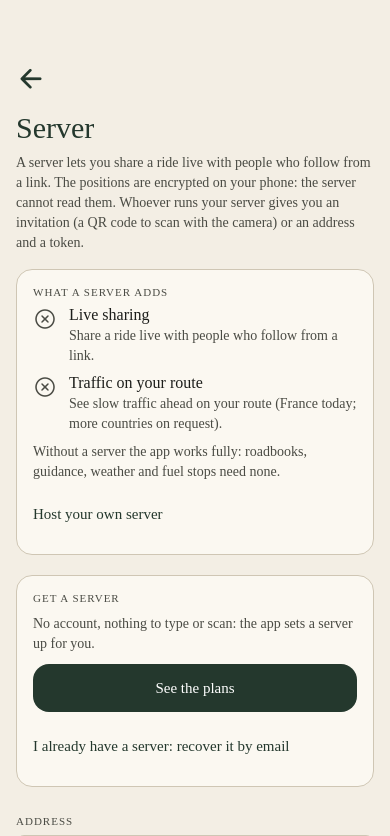
Test case: the plans: one card, free during launch, the regular price struck through, no purchase
This screenshot has width=390, height=836.
Click the button with aria-label "See the plans for a server". click: (195, 688)
box: [33,664,357,712]
(page scrolled)
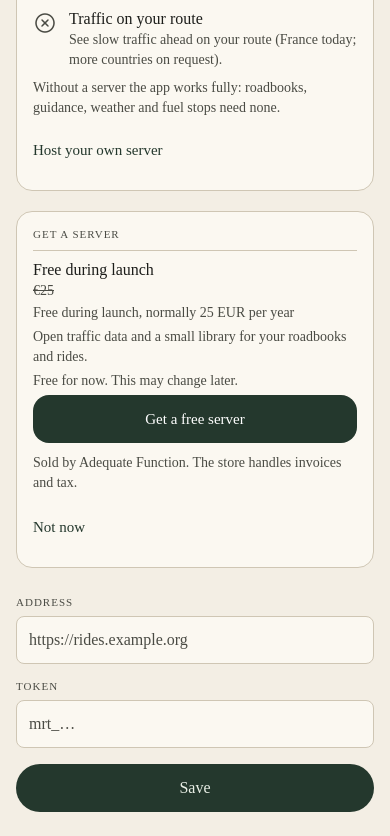
Result: the text "Free during launch" is shown at [33,261,154,278]
Result: the text "€25" is shown at [33,283,54,298]
Result: the text "Free during launch, normally 25 EUR per year" is shown at [33,305,294,320]
